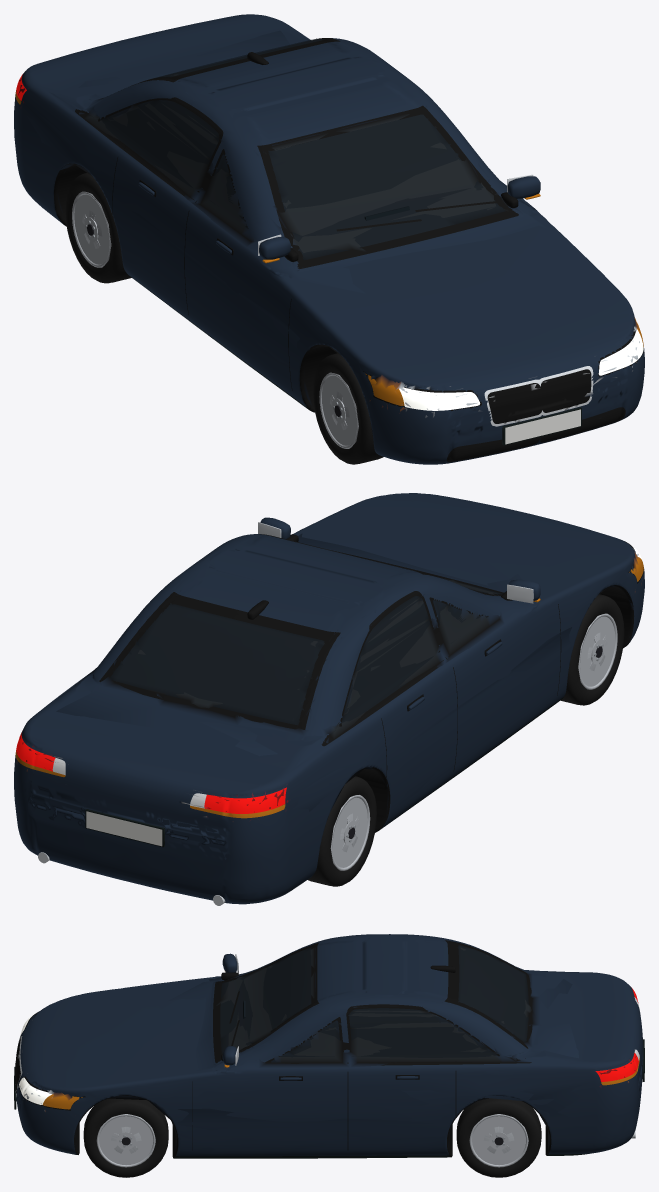
File: car_sedan.glb
3 renders of one model, top to bottom at view 1: azimuth 30°, elevation 25°; view 2: azimuth 150°, elevation 25°; view 3: azimuth 270°, elevation 25°, orthographic. The views are drawn at different scales.
Parts seen in each view (by area): view 1: body, body_lod, glass, wheel_FR_mesh, wheel_RR_mesh, headlight, plate; view 2: body, body_lod, glass, wheel_RR_mesh, wheel_FR_mesh, taillight, plate, indicator_R; view 3: body, body_lod, glass, wheel_FL_mesh, wheel_RL_mesh, indicator_L, taillight, headlight.
Part boxes in pixels (x1,y1,x2,y2): body: [14, 14, 644, 464]; body_lod: [14, 15, 644, 464]; glass: [87, 38, 505, 260]; wheel_FR_mesh: [312, 353, 383, 464]; wheel_RR_mesh: [65, 173, 131, 283]; headlight: [399, 329, 643, 410]; plate: [505, 409, 580, 444]; body: [14, 493, 644, 905]; body_lod: [16, 493, 644, 903]; glass: [110, 578, 502, 735]; wheel_RR_mesh: [308, 776, 376, 886]; wheel_FR_mesh: [561, 594, 624, 705]; taillight: [16, 733, 286, 813]; plate: [86, 811, 162, 846]; indicator_R: [190, 557, 643, 818]; body: [14, 934, 644, 1158]; body_lod: [16, 935, 642, 1172]; glass: [220, 945, 528, 1062]; wheel_FL_mesh: [83, 1098, 168, 1177]; wheel_RL_mesh: [456, 1098, 541, 1177]; indicator_L: [43, 1056, 639, 1109]; taillight: [595, 987, 638, 1081]; headlight: [19, 1014, 51, 1104].
Bounding box in the file's own units: 1.91 × 1.45 × 4.98.
